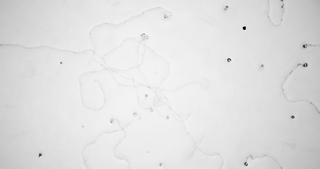germinated: (296, 60, 308, 68), (107, 117, 118, 125), (139, 31, 146, 43), (132, 110, 141, 119), (162, 12, 172, 20), (302, 41, 313, 48), (140, 35, 150, 42), (243, 156, 249, 167), (162, 113, 170, 120), (148, 106, 156, 112)
nongerminated: (36, 150, 43, 158), (223, 3, 230, 10), (258, 62, 265, 69), (289, 114, 297, 120), (225, 56, 232, 62), (241, 24, 247, 31), (57, 59, 64, 65), (143, 92, 149, 98)
